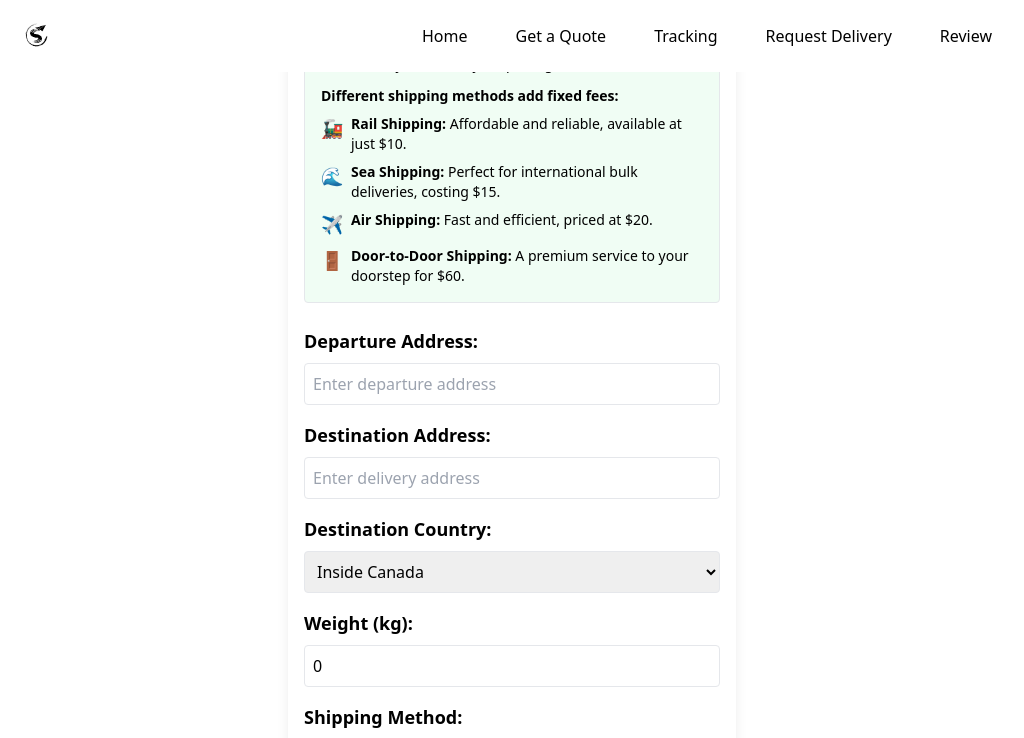
Test: Quotation Page › should calculate the shipping cost correctly
(page scrolled)
Fill in the form fields with valid data
Type "123 Main St" into the field with placeholder "Enter departure address". click: (512, 384)
box: 304,363 -> 720,405
Type "456 Elm St" into the field with placeholder "Enter delivery address". click: (512, 478)
box: 304,457 -> 720,499
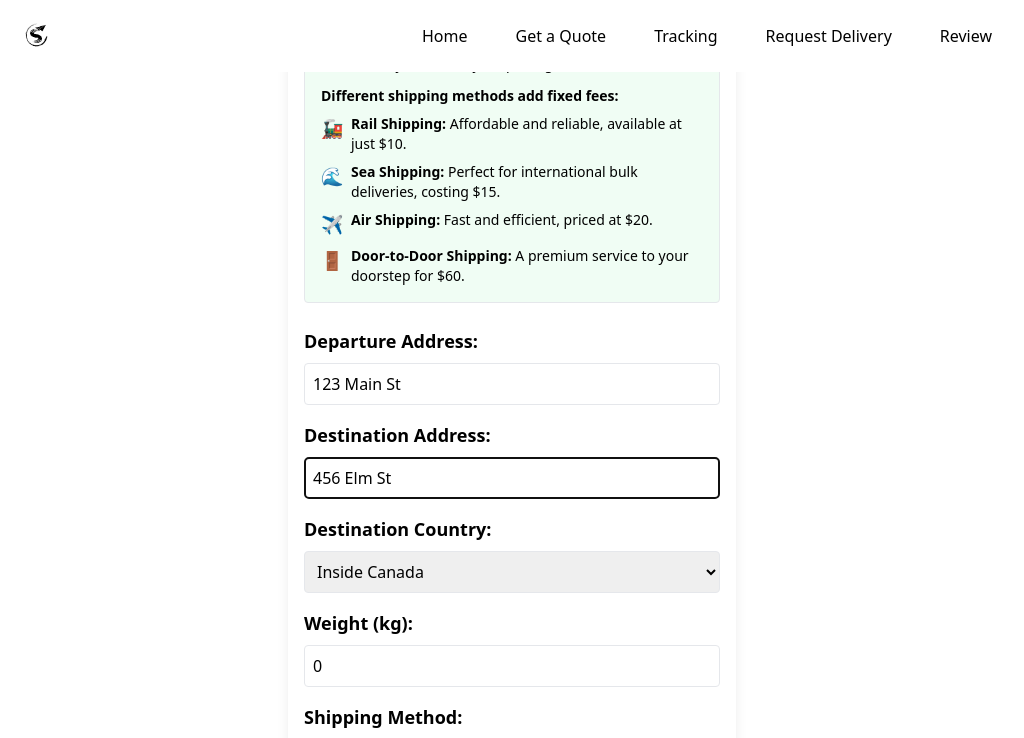
Select "Outside Canada" in the dropdown below "Destination Country:". click: (512, 572)
box: 304,551 -> 720,593
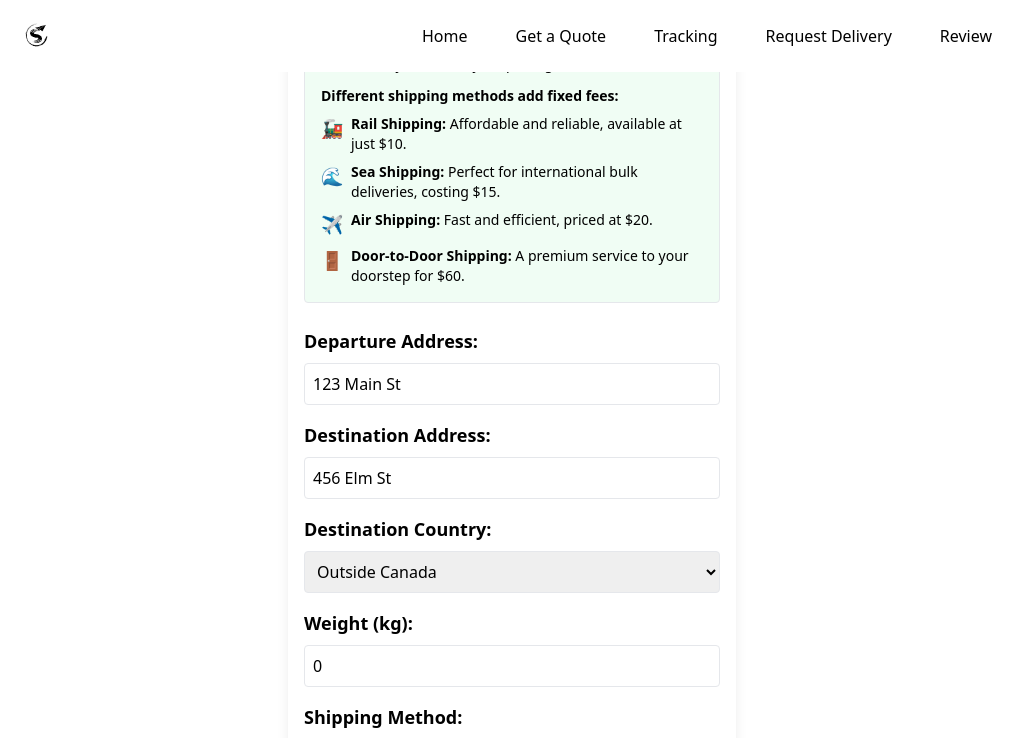
Type "5" into the number field with placeholder "Weight". click: (512, 666)
box: 304,645 -> 720,687
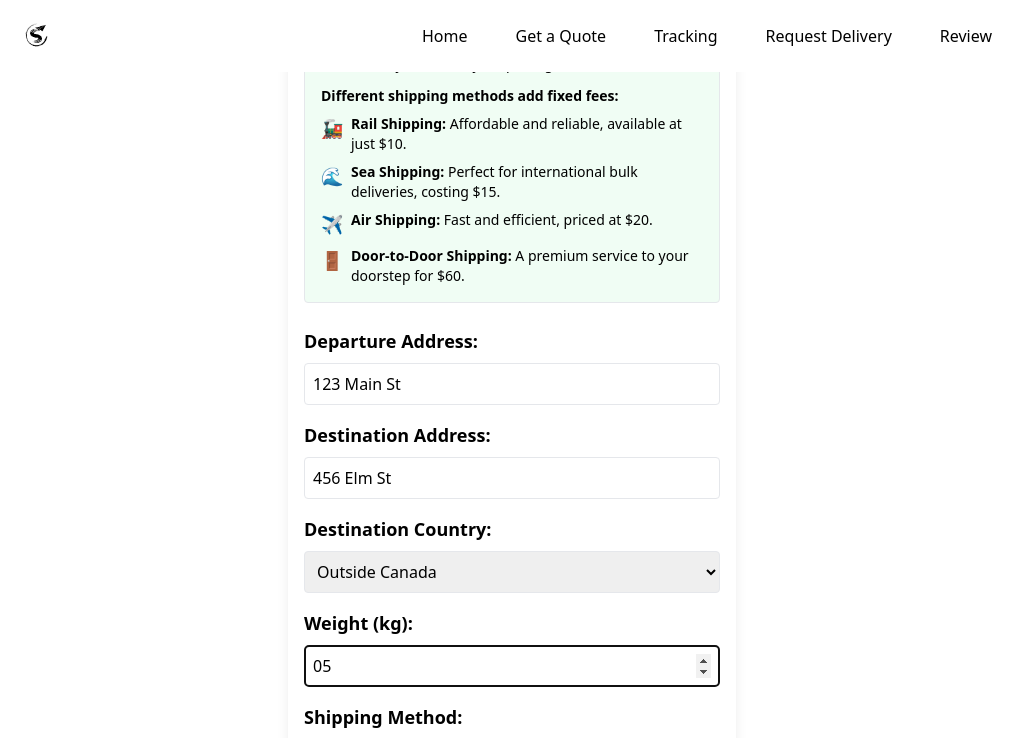
Scroll
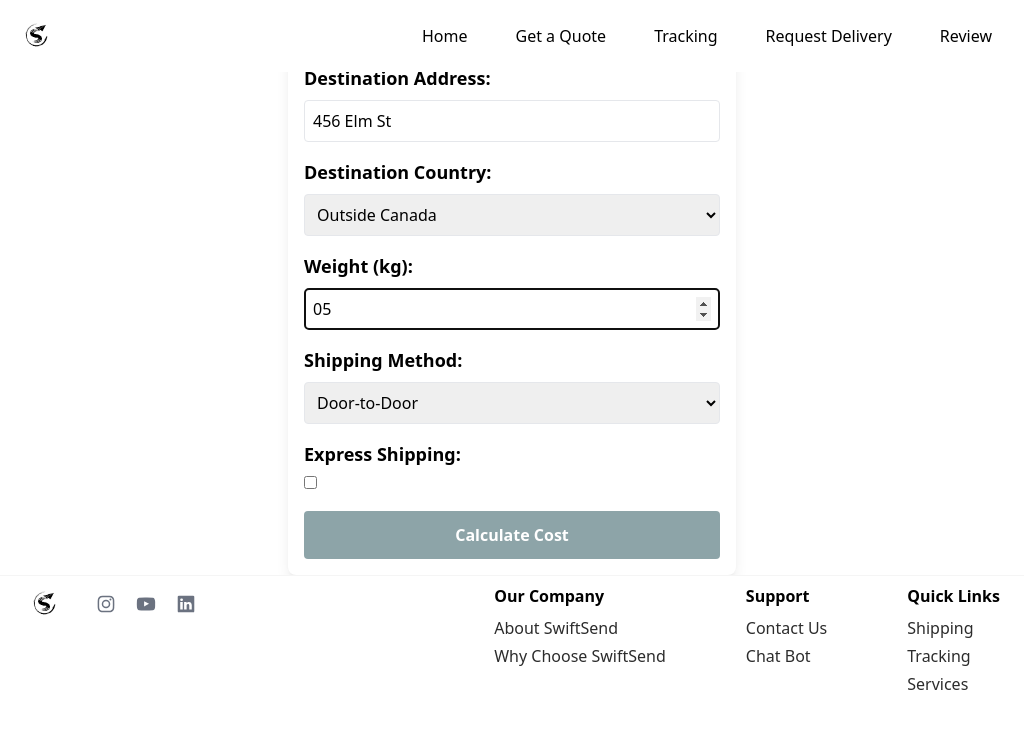
Select "Sea Shipping" in the dropdown below "Shipping Method:". click: (512, 403)
box: 304,382 -> 720,424
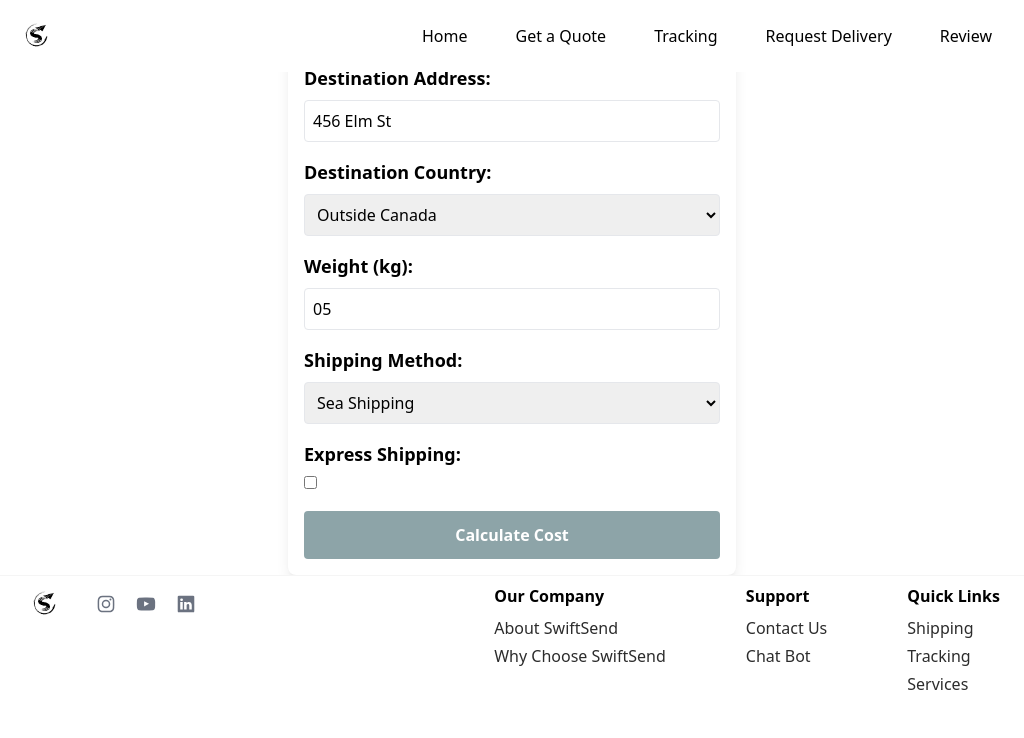
Click the Calculate Cost button
Click the button "Calculate Cost". click: (512, 535)
box: 304,511 -> 720,559
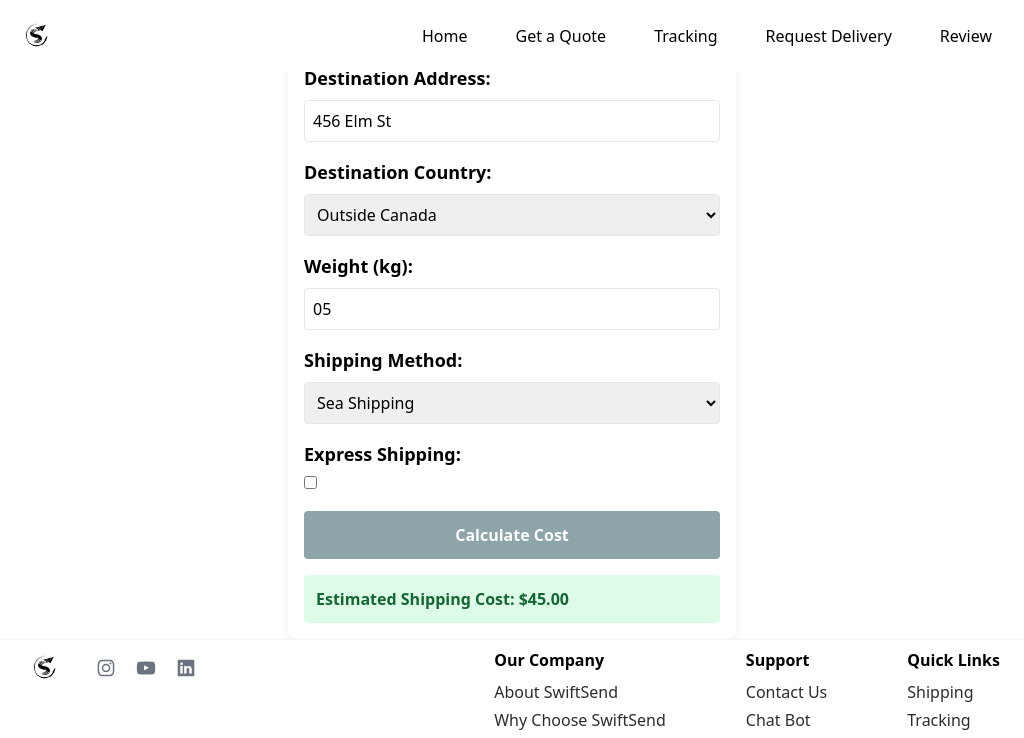
Now the text "Estimated Shipping Cost: $45.00" is shown, box 304,575 -> 720,623
